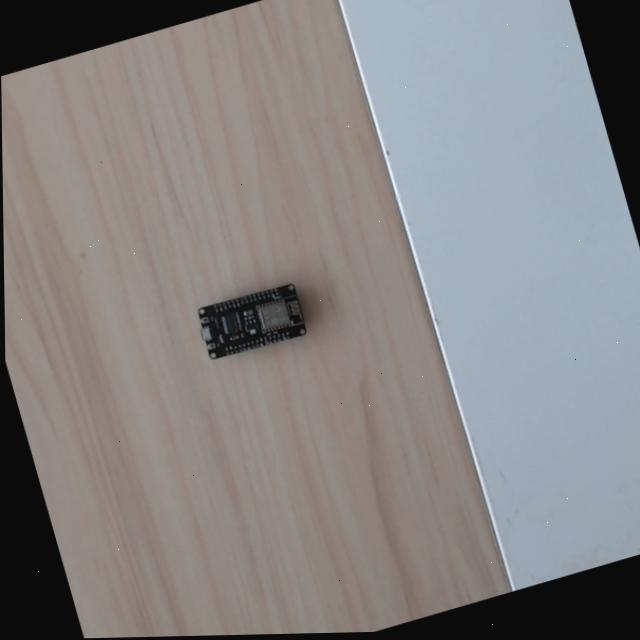ESP8266-NodeMCU: (193, 280, 306, 360)
